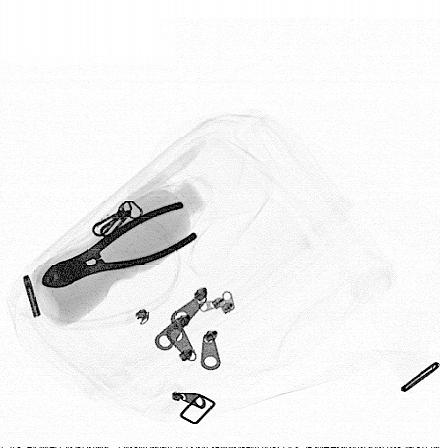Pliers: (40, 199, 200, 290)
